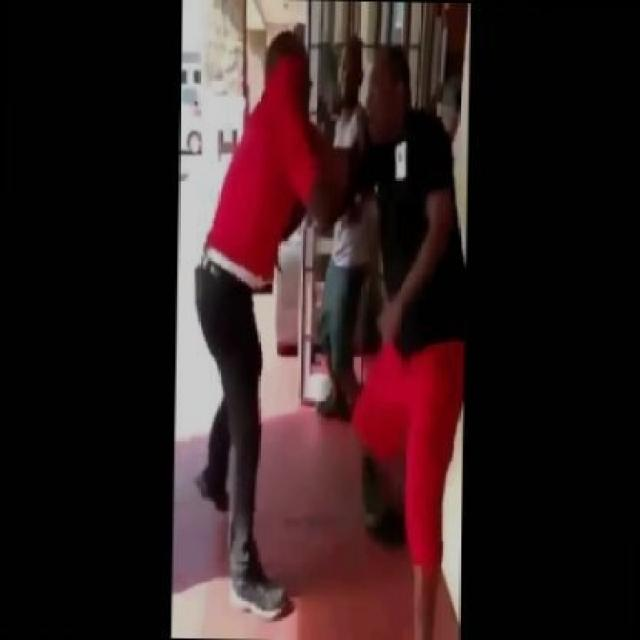fight: (178, 15, 464, 632)
